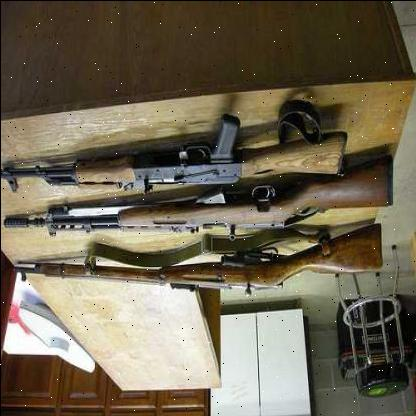rifle: (1, 161, 404, 245), (1, 109, 354, 203), (2, 225, 390, 310)
